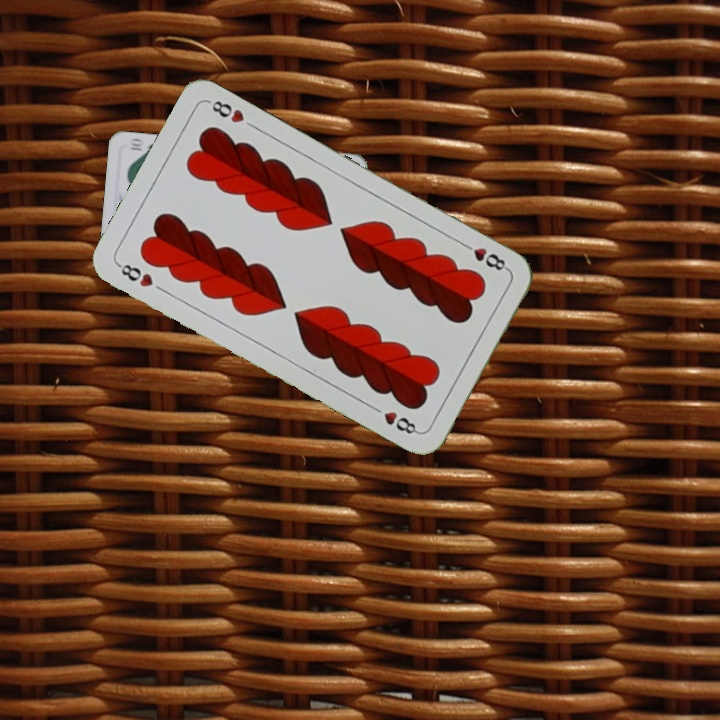H8: (457, 238, 511, 274), (113, 260, 156, 290)
